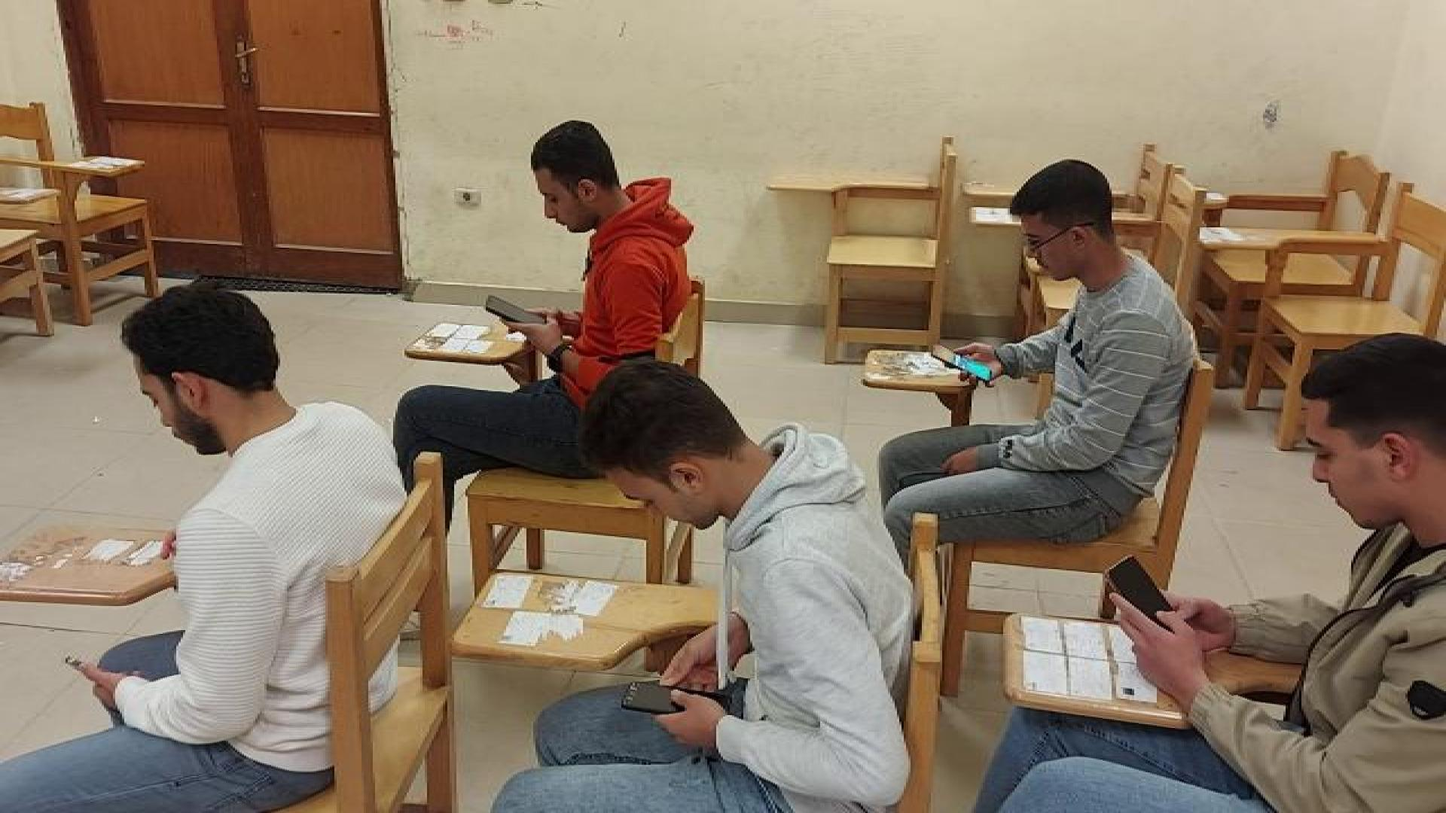phone: (617, 675, 737, 735), (1104, 554, 1181, 633), (478, 292, 557, 332), (925, 336, 995, 377)
